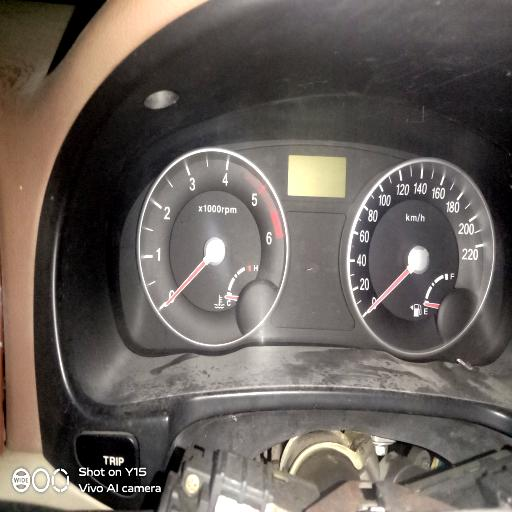tachometer: (138, 147, 289, 347)
